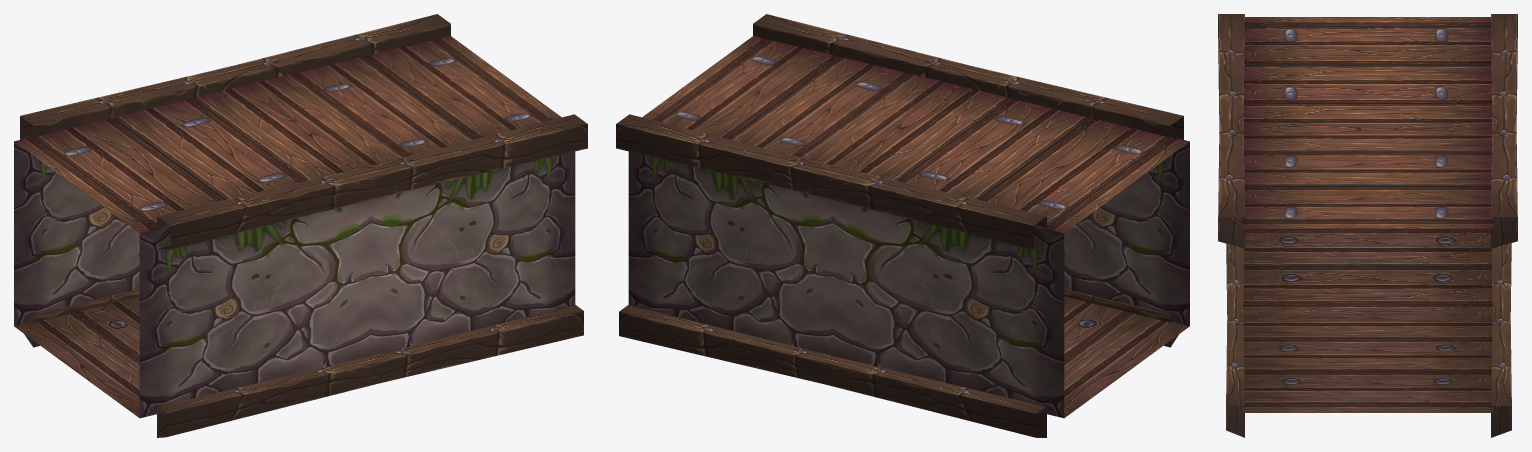
Rendered from small_wall_tile_02.fbx.
3 views of the same model, side by side, from view 1: azimuth 30°, elevation 25°; view 2: azimuth 150°, elevation 25°; view 3: azimuth 270°, elevation 25° (orthographic).
Parts seen in each view (by area): view 1: small_wall_tile_02; view 2: small_wall_tile_02; view 3: small_wall_tile_02.
Boxes of the visible parts, <box> form: small_wall_tile_02: <box>14,14,587,437</box>; small_wall_tile_02: <box>616,14,1189,437</box>; small_wall_tile_02: <box>1218,14,1517,437</box>.
Bounding box in the file's own units: 11.44 × 5.56 × 6.83.
